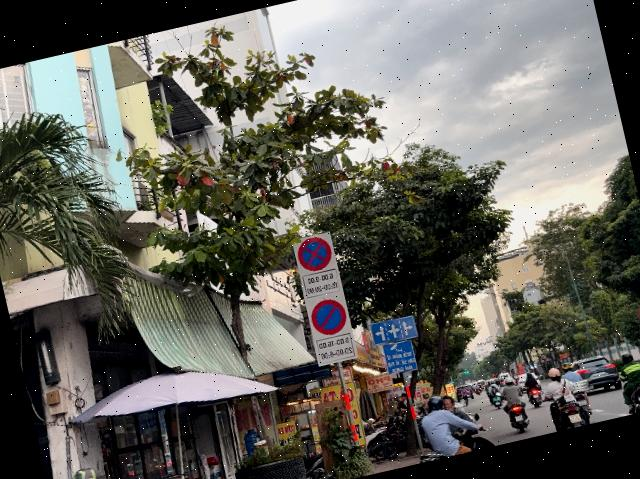cam-do-xe: (308, 296, 350, 338)
cam-dung-va-do-xe: (294, 234, 334, 274)
